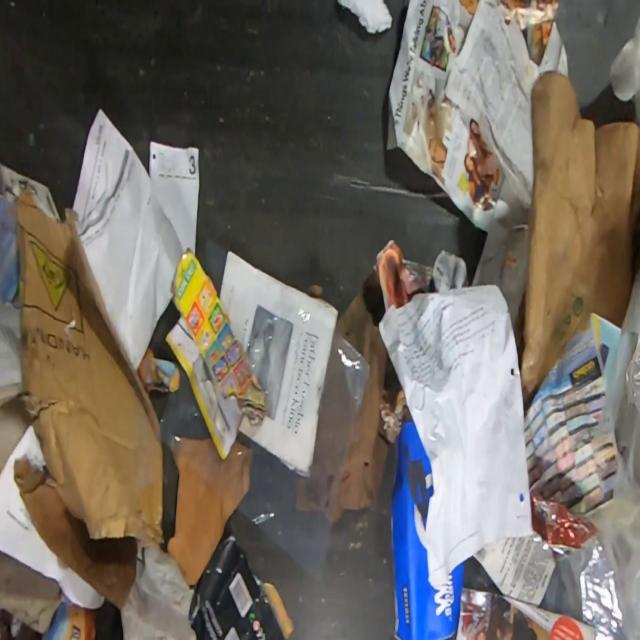cardboard: (13, 192, 164, 610), (520, 68, 640, 412), (165, 247, 268, 457), (392, 416, 466, 639), (168, 436, 251, 586), (0, 551, 63, 636)
metal: (188, 536, 288, 640)
soft_plastic: (203, 237, 372, 581), (533, 273, 640, 640), (158, 361, 211, 448)
